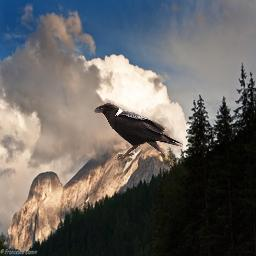Crow: (93, 101, 183, 164)
